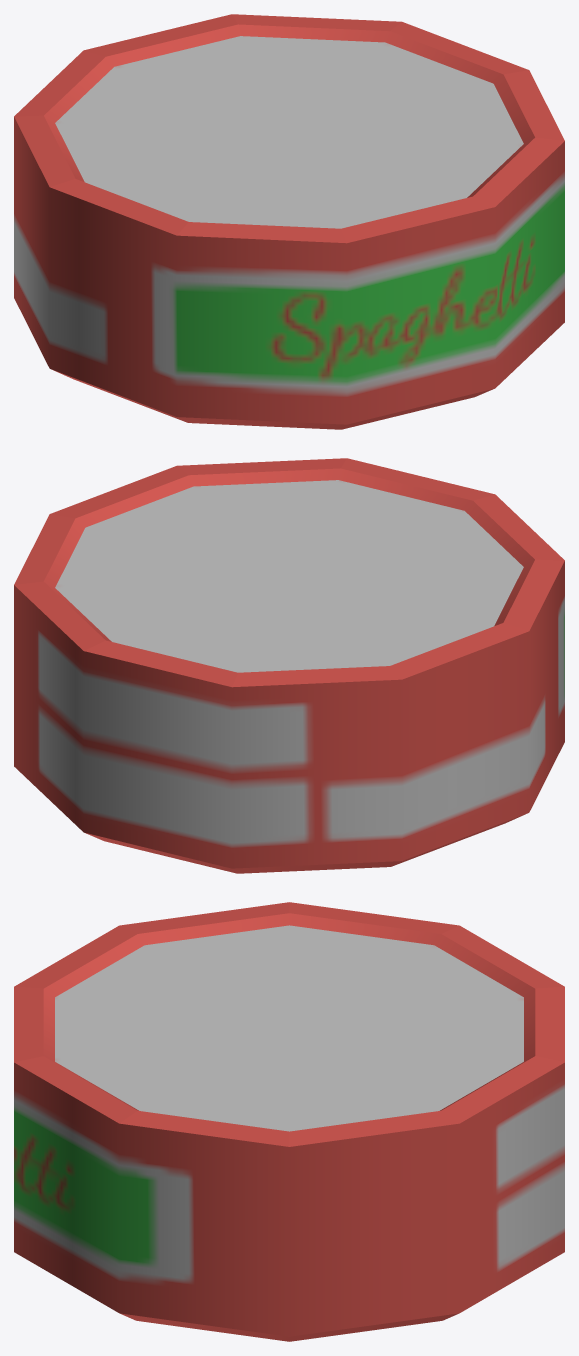
File: Canned_10.fbx
The picture shows the model from 3 angles, top to bottom: view 1: azimuth 30°, elevation 25°; view 2: azimuth 150°, elevation 25°; view 3: azimuth 270°, elevation 25°; orthographic projection. The views are drawn at different scales.
Parts seen in each view (by area): view 1: Canned_10; view 2: Canned_10; view 3: Canned_10.
Part boxes in pixels (left/top/right/bottom): Canned_10: left=14, top=14, right=564, bottom=429; Canned_10: left=14, top=458, right=564, bottom=873; Canned_10: left=14, top=902, right=564, bottom=1341.
Size of the model in its own units: 12.72 by 5.07 by 12.1.
